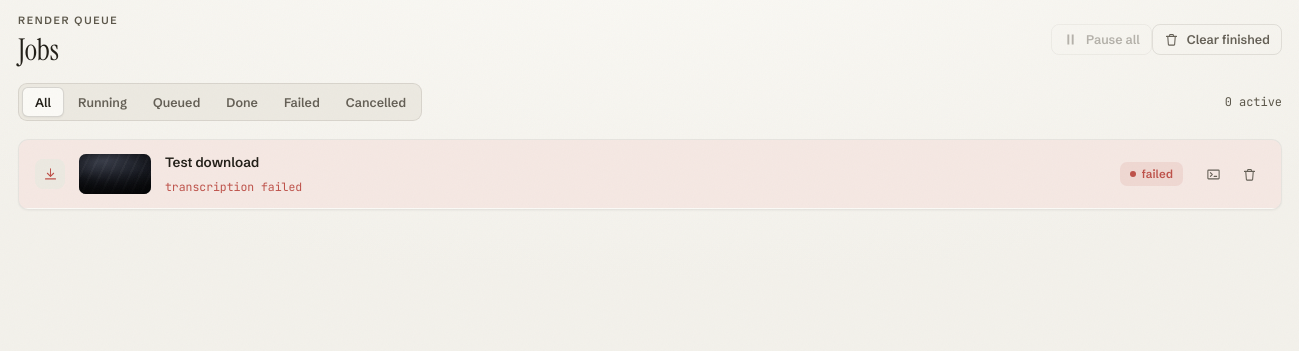
Queue mutation guards › shows the structured failure code and message in queue logs
Click the button named "Logs": (1213, 174) [1197,158,1229,190]
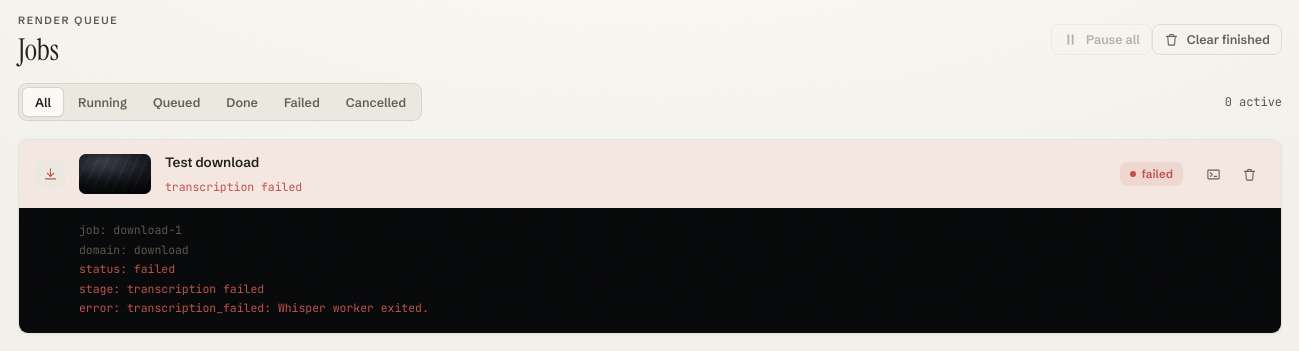
expect the text "error: transcription_failed: Whisper worker exited." is shown: met, box [79,301,429,316]
